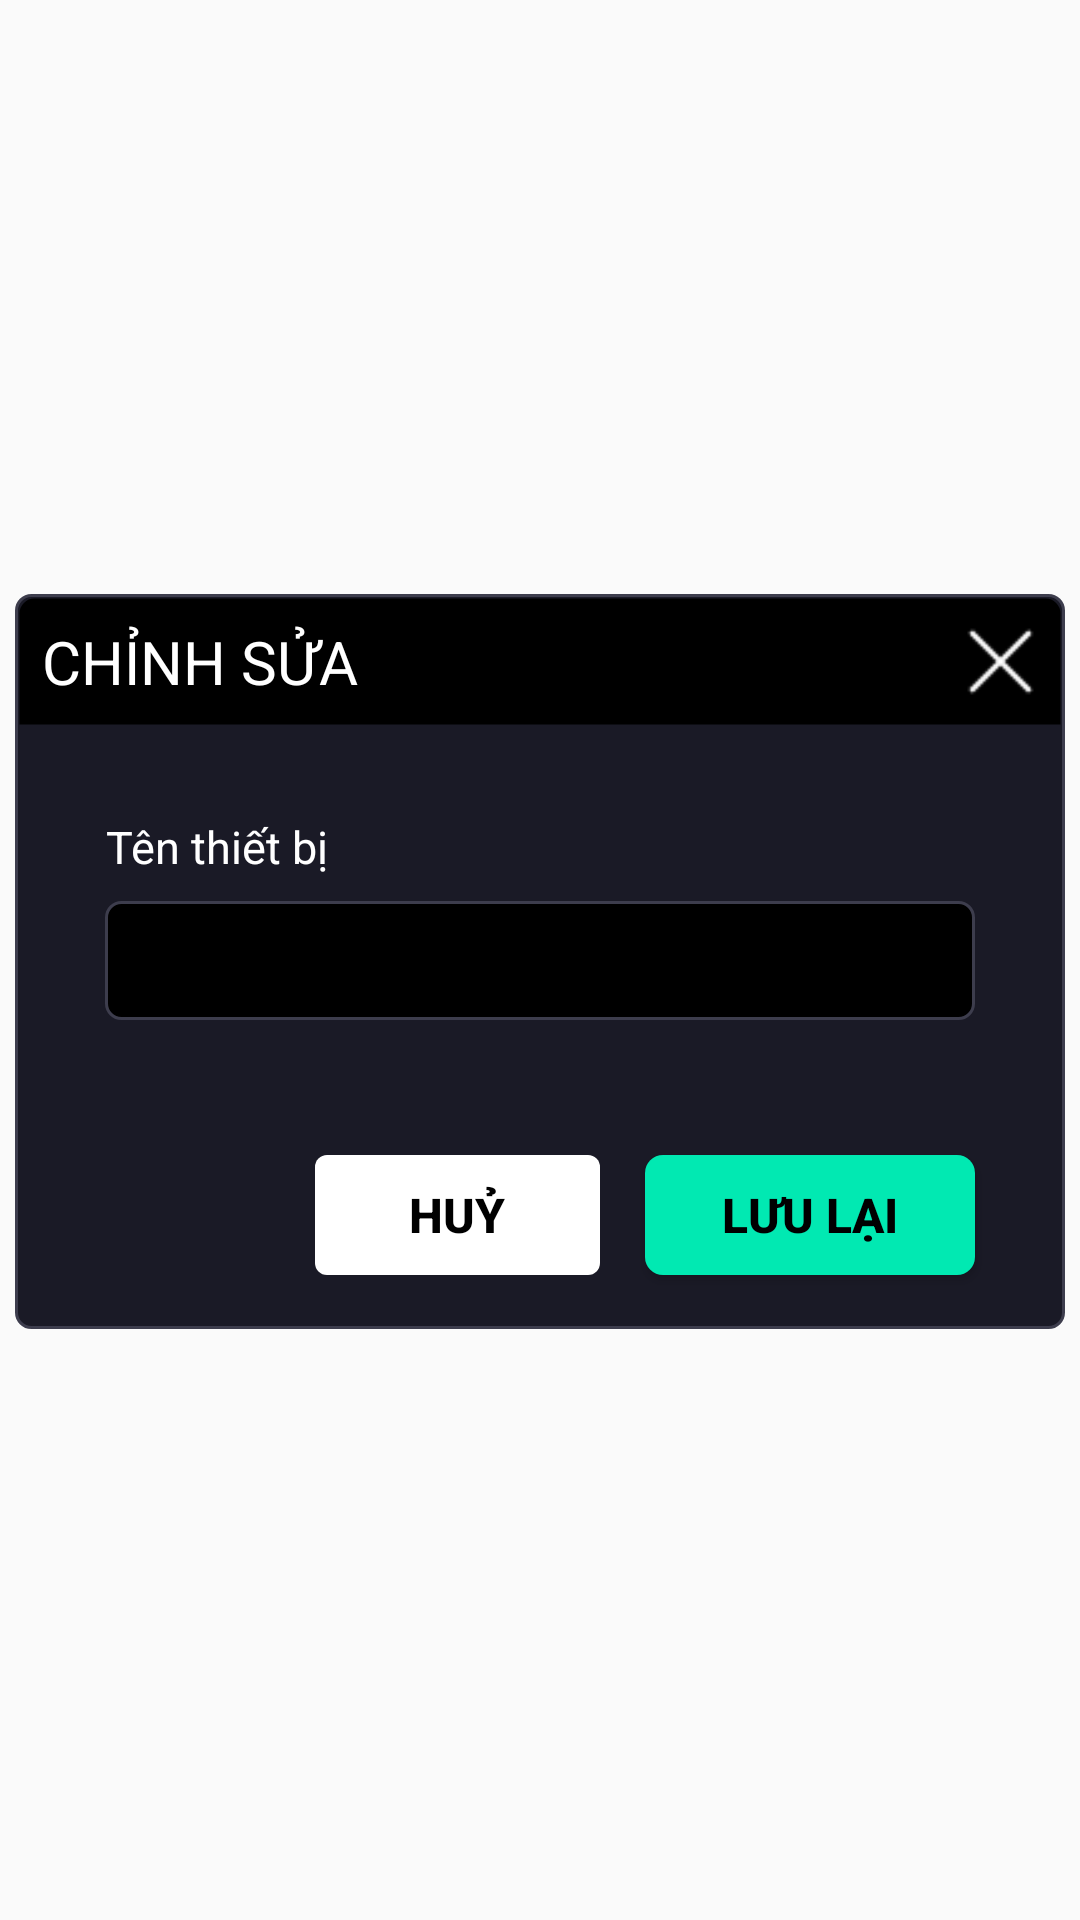

Icon bounding boxes for this 1080*1920 phone screenshot, format (x1, y1, x2, y2):
close: (968, 629, 1033, 694)
